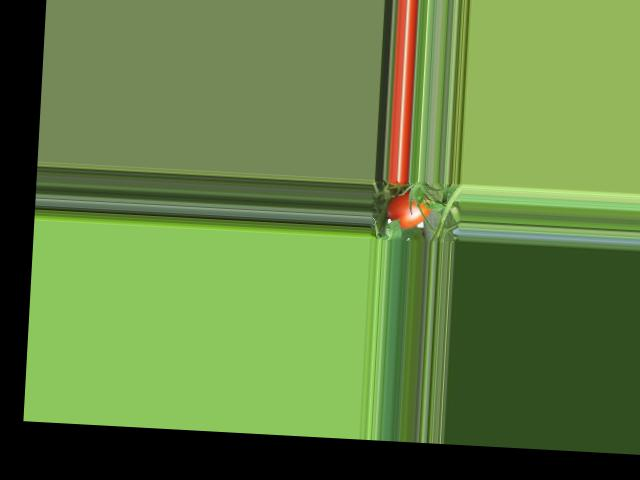tomato: (385, 190, 430, 229)
